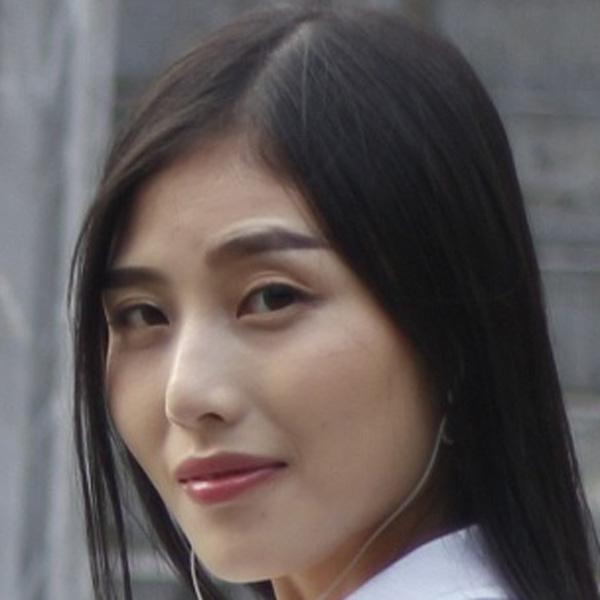Eyes: (224, 269, 315, 333), (98, 293, 191, 351)
